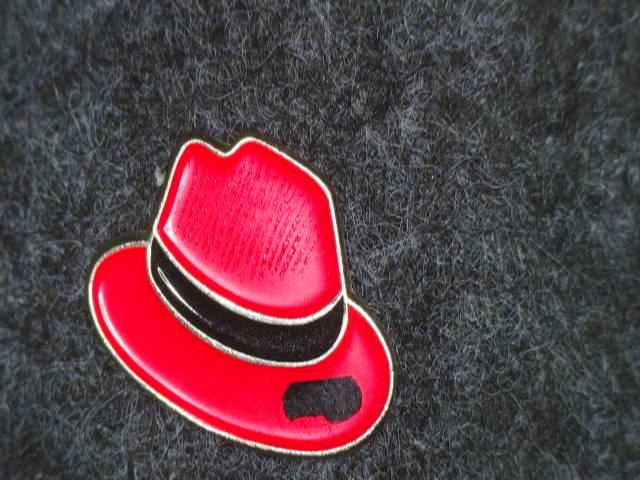Red-Hat: (53, 114, 432, 467)
Scratch: (266, 370, 367, 432)
